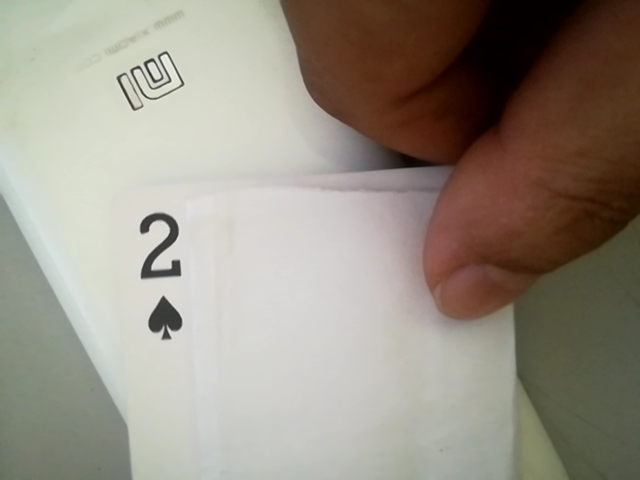ht 2: (115, 194, 208, 348)
